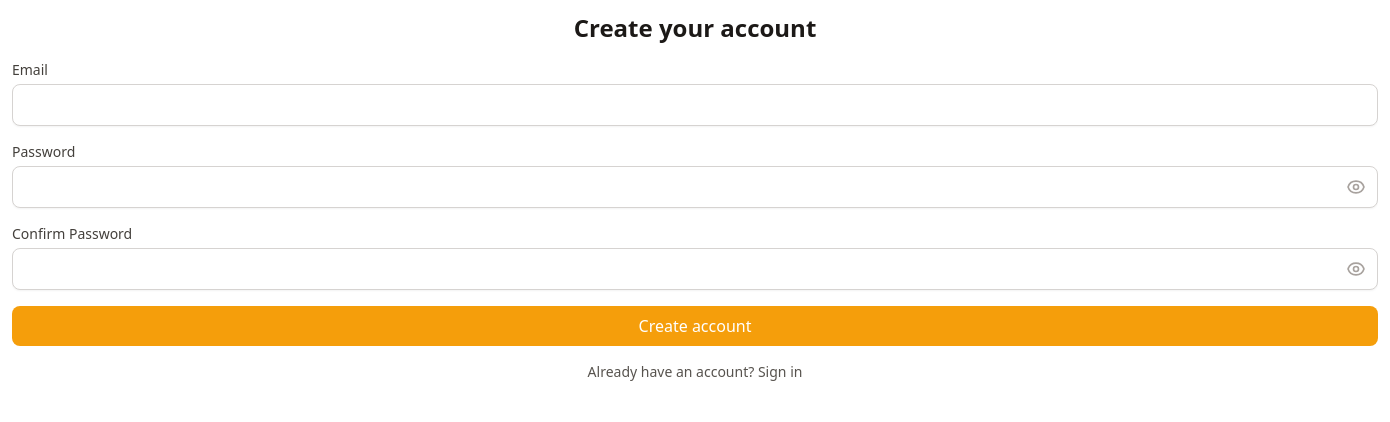
Test case: RegisterForm › shows error when password is too short
Type "test@example.com" into the field labelled "Email". click: [695, 105]
box: top-left (12, 84), bottom-right (1378, 126)
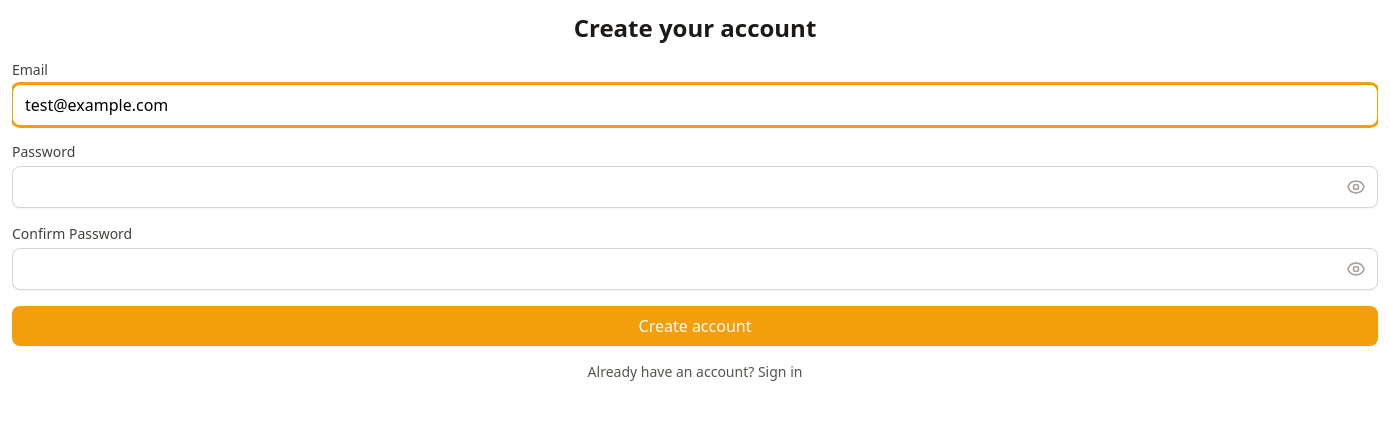
Type "Ab1" into the password field labelled "Password". click: [695, 187]
box: top-left (12, 166), bottom-right (1378, 208)
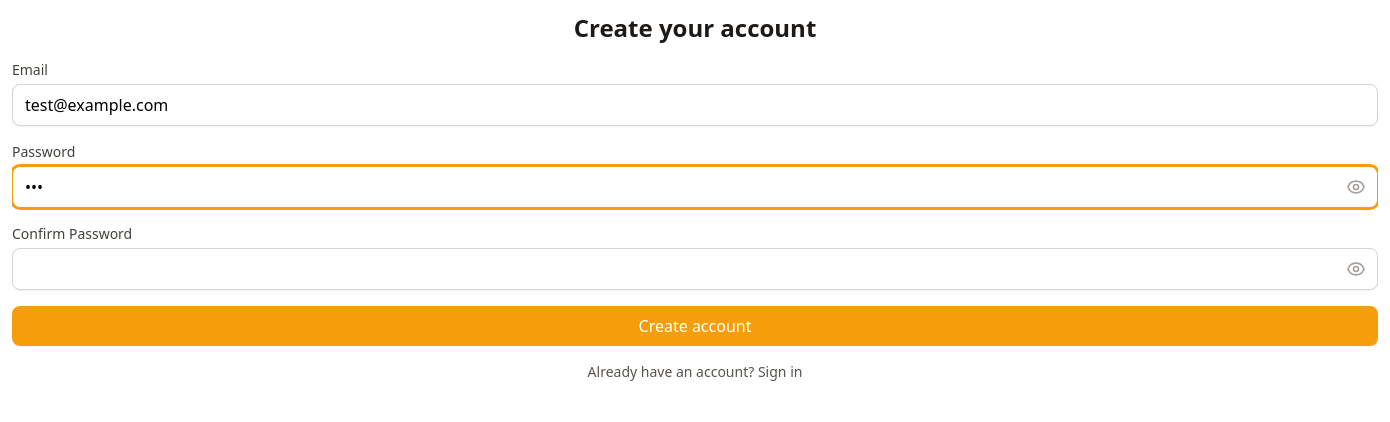
Type "Ab1" into the password field labelled "Confirm Password". click: [695, 269]
box: top-left (12, 248), bottom-right (1378, 290)
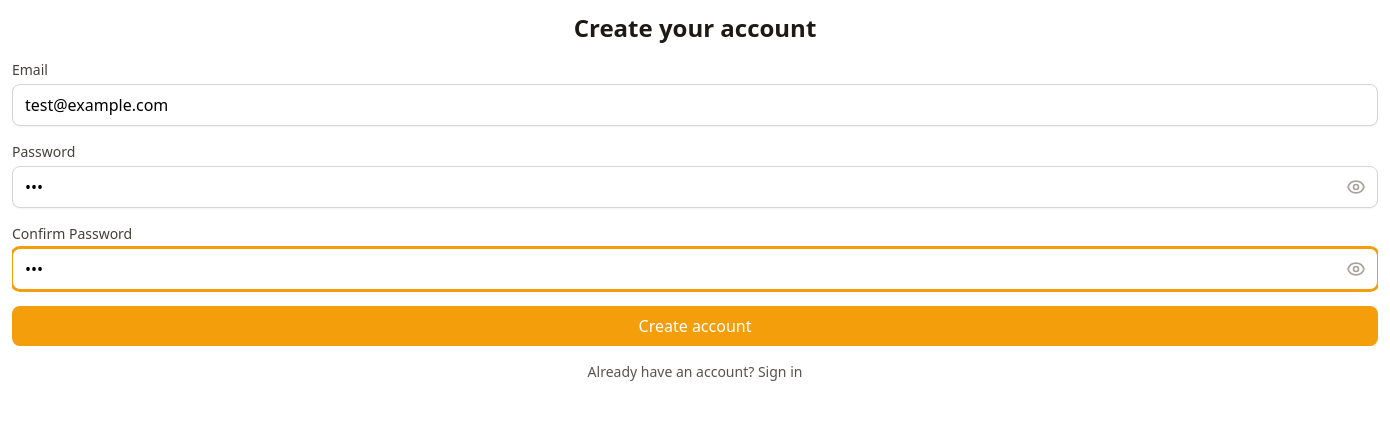
Click the button "Create account". click: [695, 326]
box: top-left (12, 306), bottom-right (1378, 346)
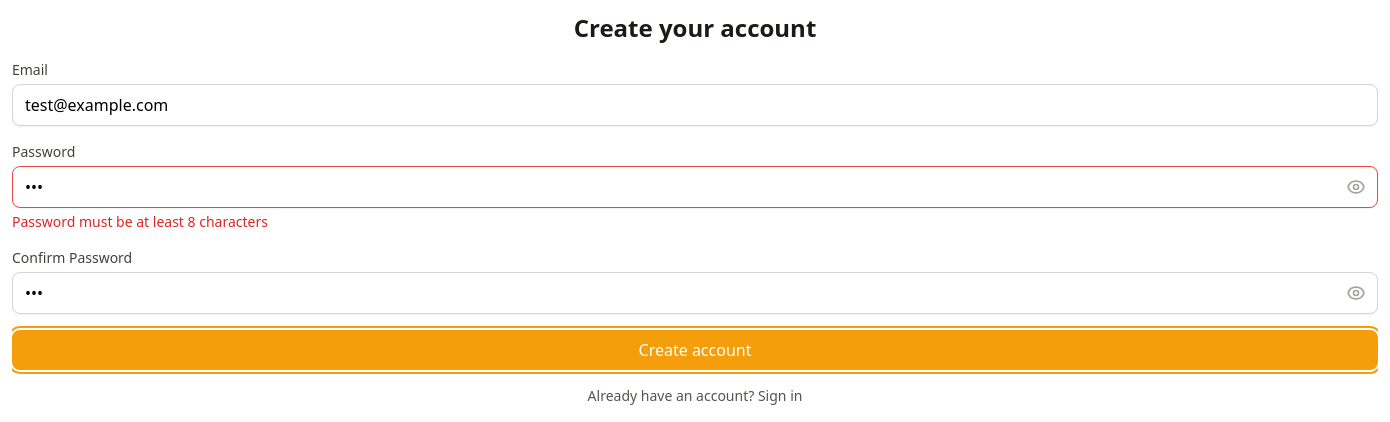
Now the text "Password must be at least 8 characters" is shown, box top-left (12, 212), bottom-right (268, 231)
